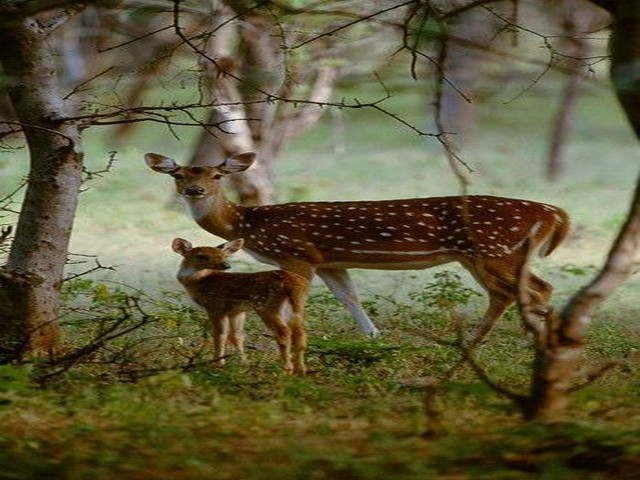deer: (138, 140, 559, 233), (163, 234, 316, 374)
